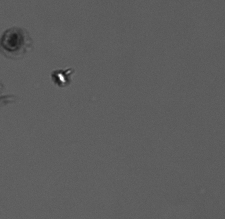Dead Cell: (1, 27, 27, 55)
Living Cell: (51, 65, 68, 88)
